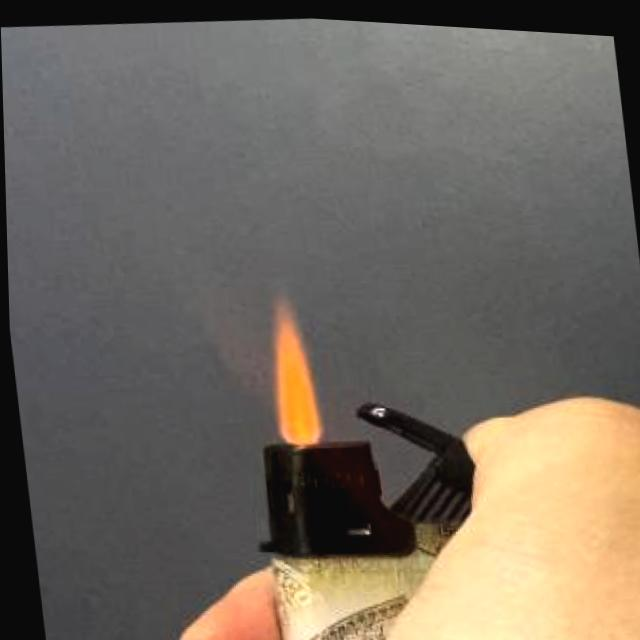fire: (242, 270, 329, 453)
